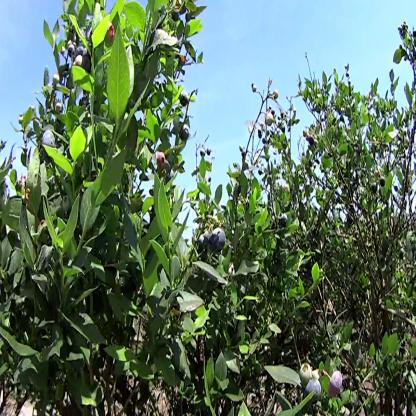intermediate: (105, 18, 116, 48), (156, 149, 167, 167), (76, 55, 84, 67)
mature: (329, 371, 345, 398), (213, 226, 227, 254), (41, 128, 58, 151), (305, 380, 322, 403)
young: (300, 363, 314, 387), (265, 111, 275, 128)
